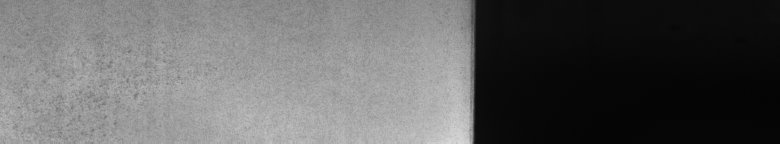ib: (46, 50, 145, 108)
